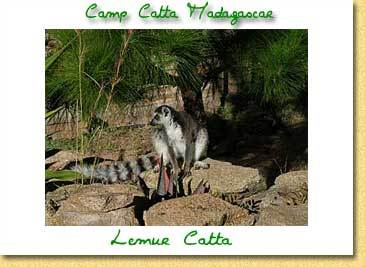cat: (61, 100, 208, 199)
